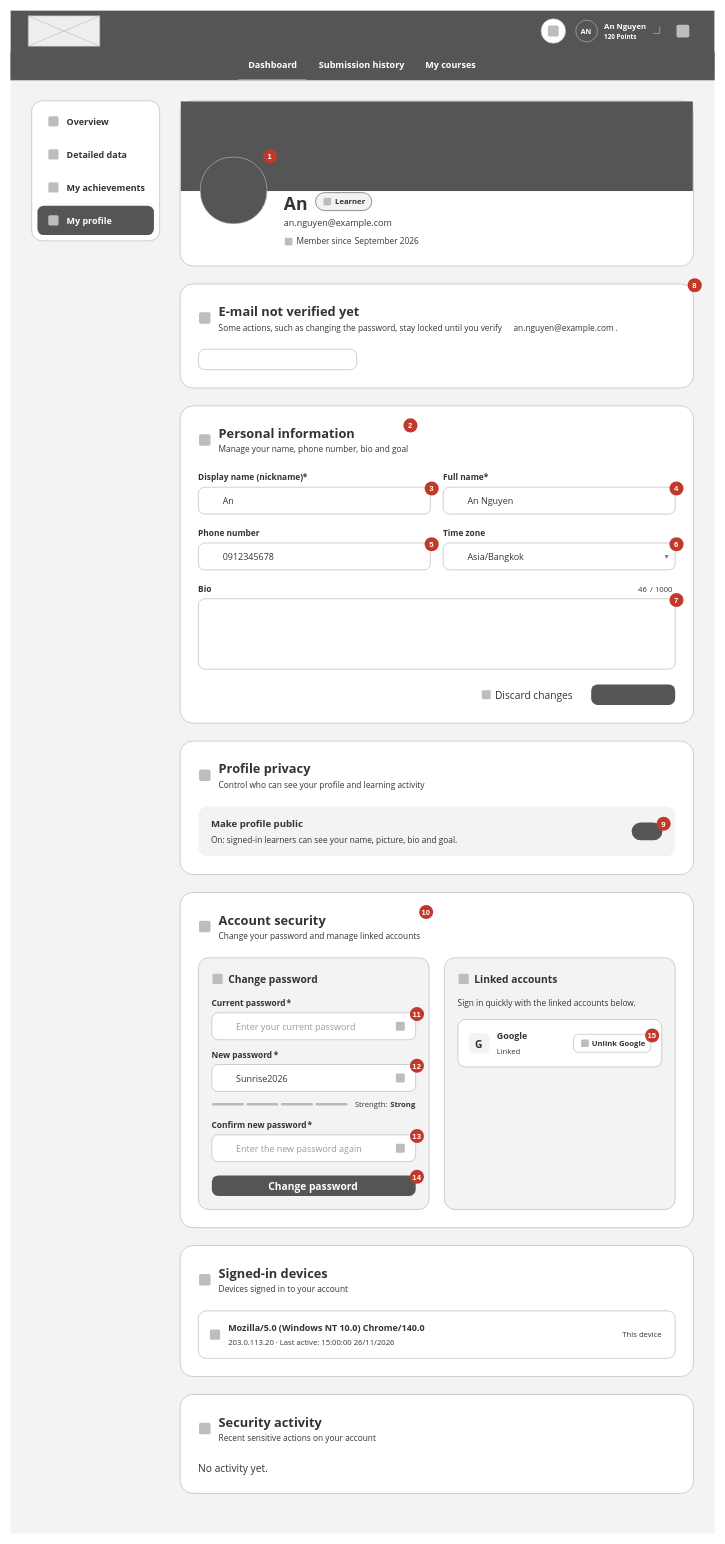
Some shapes in this 725 by 1544 pixel diagram are drawn without their labels. The shapes that lost their labels are listed below. From the top down, each one's box as (x1, y1, x2, y2) in pixels, then its label:
(198, 349, 357, 370): Send verification e-mail again
(198, 598, 675, 669): Preparing for IELTS to study abroad next year.
(591, 684, 675, 705): Save changes
